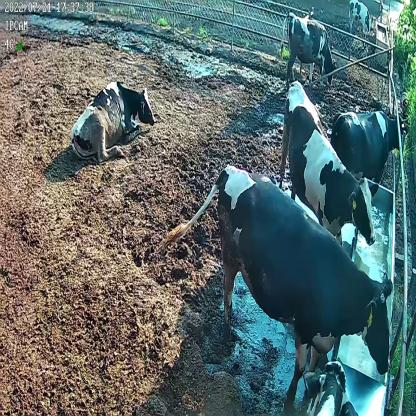cow: (169, 162, 394, 398), (277, 82, 378, 257), (71, 78, 157, 160), (332, 106, 408, 182), (279, 13, 336, 89), (346, 0, 372, 40)
